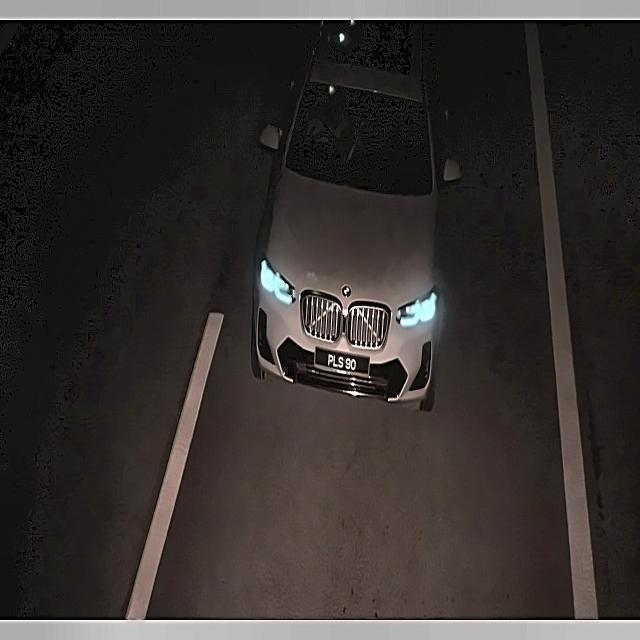car: (315, 343, 373, 381)
